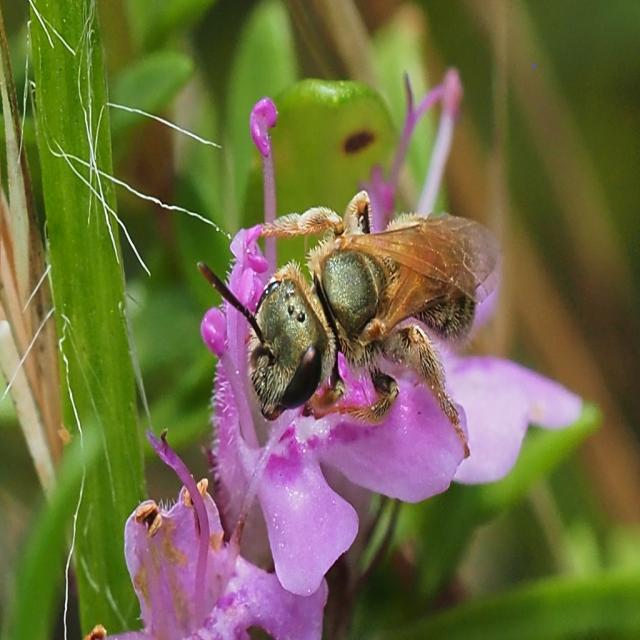Seladonia: (187, 193, 520, 458)
